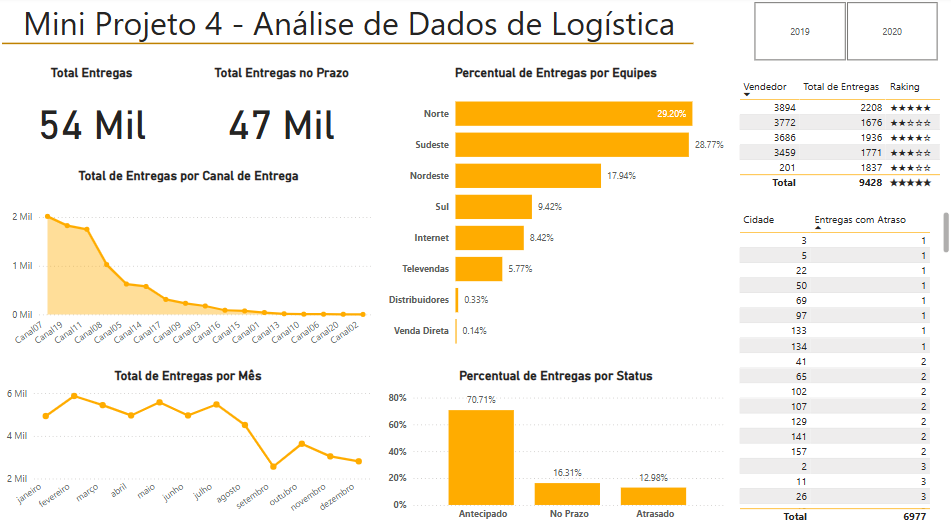

What the dashboard file says about the page in this screenshot:
{"tool":"powerbi","page":{"name":"Página 1","canvas":[1280,720],"ordinal":0},"visuals":[{"type":"areaChart","title":"Total de Entregas por Canal de Entrega","fields":{"Category":["Logistica.Canal_Entrega"],"Y":["Medidas.TotalEntregas"]},"box":[12.4,227.1,495.5,256],"z":0},{"type":"clusteredBarChart","title":"Percentual de Entregas por Equipes","fields":{"Category":["Logistica.Equipe_Entrega"],"Y":["Medidas.TotalEntregas"]},"box":[518.9,90.8,456.9,392.3],"z":1000},{"type":"lineChart","title":"Total de Entregas por Mês","fields":{"Category":["Logistica.Data_Pedido.Variation.Hierarquia de datas.Mês"],"Y":["Medidas.TotalEntregas"]},"box":[12.4,492.7,494.1,212],"z":2000},{"type":"tableEx","fields":{"Values":["Logistica.ID_Vendedor","Medidas.TotalEntregas","Medidas.Classificação por estrelas TotalEntregas"]},"box":[985.5,103.2,290.4,165.2],"z":3000},{"type":"tableEx","fields":{"Values":["Logistica.ID_Cidade","Medidas.TotalEntregas"]},"box":[985.5,280.8,290.4,423.9],"z":4000},{"type":"columnChart","title":"Percentual de Entregas por Status","fields":{"Y":["Medidas.TotalEntregas"],"Category":["Logistica.Status_Entrega"]},"box":[518.9,492.7,456.9,212],"z":5000},{"type":"card","title":"Total Entregas","fields":{"Values":["Medidas.TotalEntregas"]},"box":[12.4,90.8,238.1,126.6],"z":6000},{"type":"card","title":"Total Entregas no Prazo","fields":{"Values":["Medidas.TotalEntregasPrazo"]},"box":[260.1,90.8,246.4,126.6],"z":7000},{"type":"textbox","box":[1.5,0,954.9,77.6],"z":8000},{"type":"shape","box":[12.4,45.4,919.4,33],"z":9000},{"type":"slicer","fields":{"Values":["Logistica.Data_Pedido.Variation.Hierarquia de datas.Ano"]},"box":[985.5,0,293.2,90.8],"z":10000}]}

Visuals, with their boxes in screenshot pixels (x1, y1, x2, y2), scaled from the page's 1280x720 canvas onto the 951x530 screenshot:
"Total de Entregas por Canal de Entrega" areaChart: rect(9, 167, 377, 356)
"Percentual de Entregas por Equipes" clusteredBarChart: rect(386, 67, 725, 356)
"Total de Entregas por Mês" lineChart: rect(9, 363, 376, 519)
tableEx - Logistica.ID_Vendedor x Medidas.TotalEntregas: rect(732, 76, 948, 198)
tableEx - Logistica.ID_Cidade x Medidas.TotalEntregas: rect(732, 207, 948, 519)
"Percentual de Entregas por Status" columnChart: rect(386, 363, 725, 519)
"Total Entregas" card: rect(9, 67, 186, 160)
"Total Entregas no Prazo" card: rect(193, 67, 376, 160)
textbox: rect(1, 0, 711, 57)
shape: rect(9, 33, 692, 58)
slicer - Logistica.Data_Pedido.Variation.Hierarquia de datas.Ano: rect(732, 0, 950, 67)
